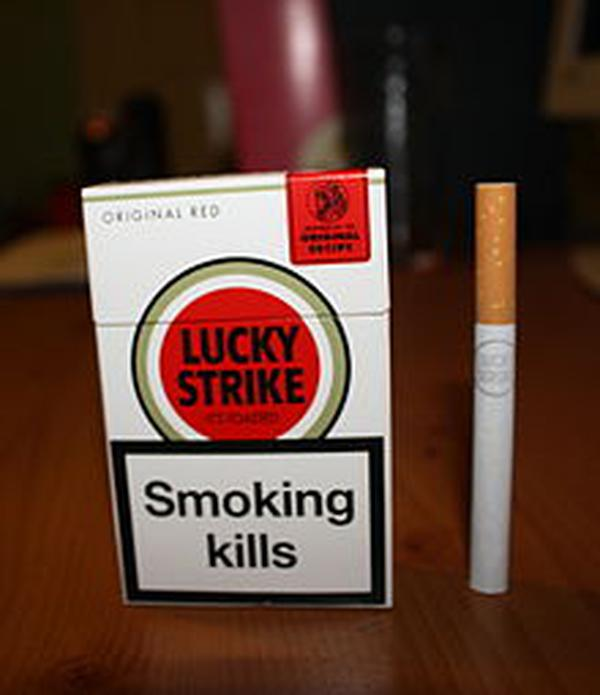lucky_strike_red: (108, 181, 387, 606)
